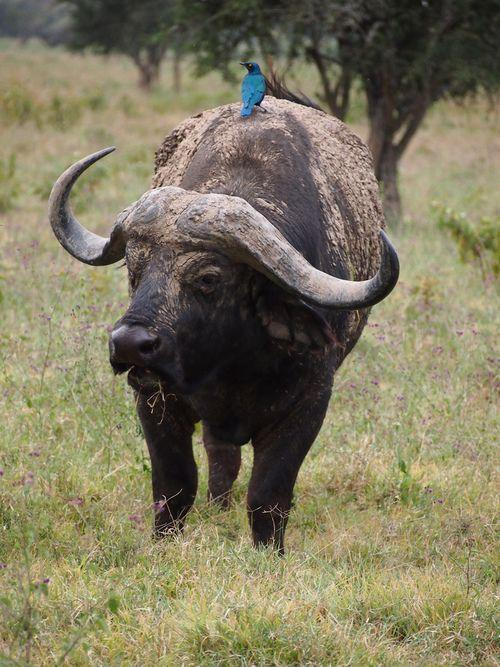Buffalo: (43, 37, 421, 663)
